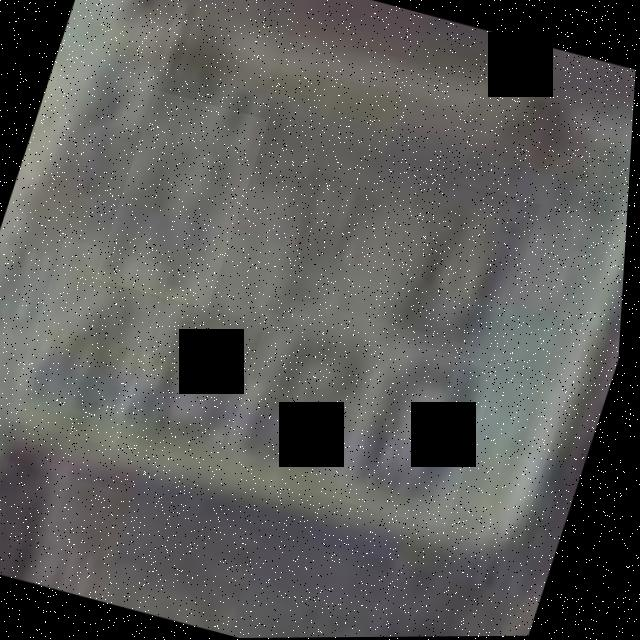0: (338, 324, 509, 530)
4: (8, 237, 178, 449)
B: (223, 294, 395, 500), (115, 269, 284, 474)
N: (97, 89, 273, 310)
U: (373, 173, 544, 365)
